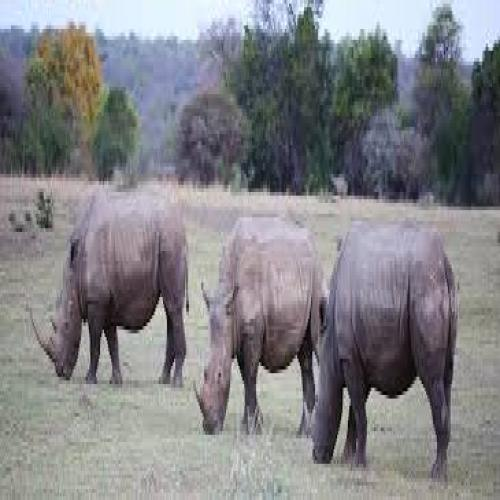rhino-endangered: (301, 220, 461, 475), (30, 188, 191, 388), (193, 218, 314, 438)
